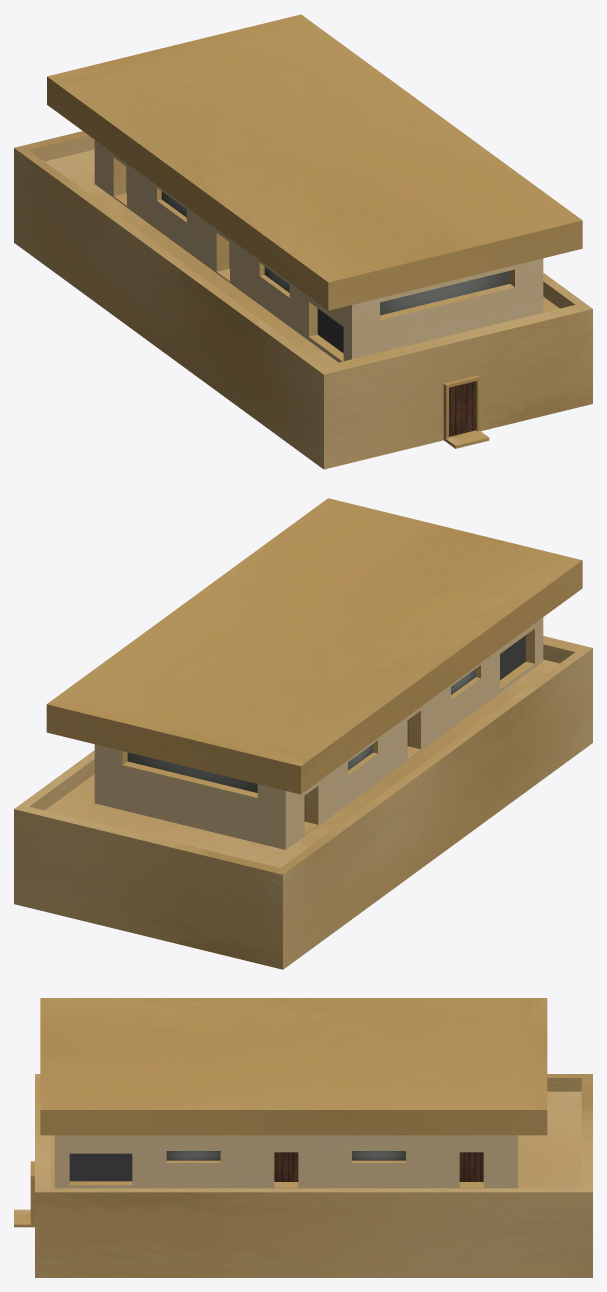
The model's file is TownBuilding_06.fbx.
3 views of the same model, one above another, from view 1: azimuth 30°, elevation 25°; view 2: azimuth 150°, elevation 25°; view 3: azimuth 270°, elevation 25° (orthographic). The views are drawn at different scales.
Parts seen in each view (by area): view 1: Cube.014; view 2: Cube.014; view 3: Cube.014.
Part boxes in pixels (left/top/right/bottom): Cube.014: left=14, top=14, right=592, bottom=469; Cube.014: left=14, top=498, right=592, bottom=969; Cube.014: left=14, top=998, right=592, bottom=1277.
Size of the model in its own units: 2072 by 651 by 1001.
